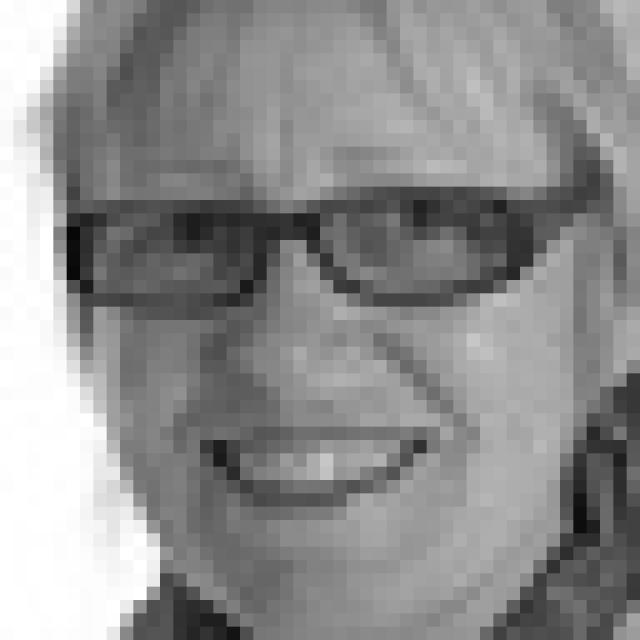happy: (116, 130, 510, 531)
